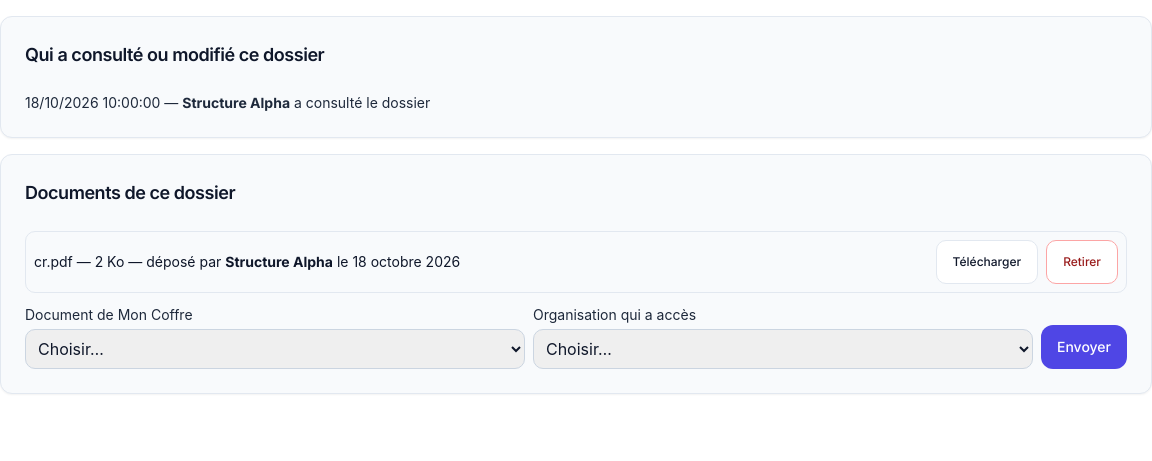
Test: dossier transparency › a revoked organisation is not offered for sharing; the Coffre document goes to the chosen active one
Select "bail.pdf (Logement)" in the dropdown with test id "share-coffre-doc" at (275, 349), box x1=25 y1=329 x2=525 y2=369
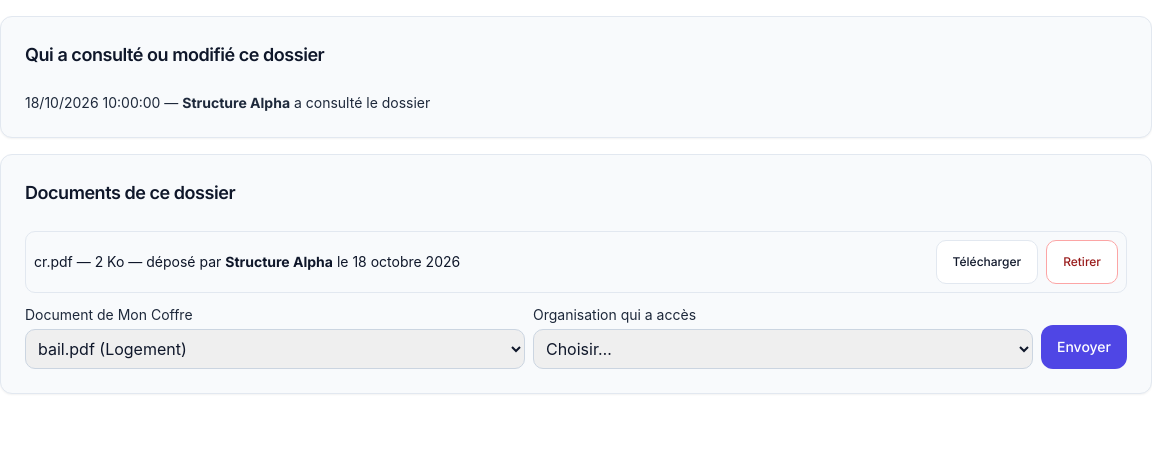
Select "Structure Alpha" in the dropdown with test id "share-coffre-org" at (783, 349), box x1=533 y1=329 x2=1033 y2=369
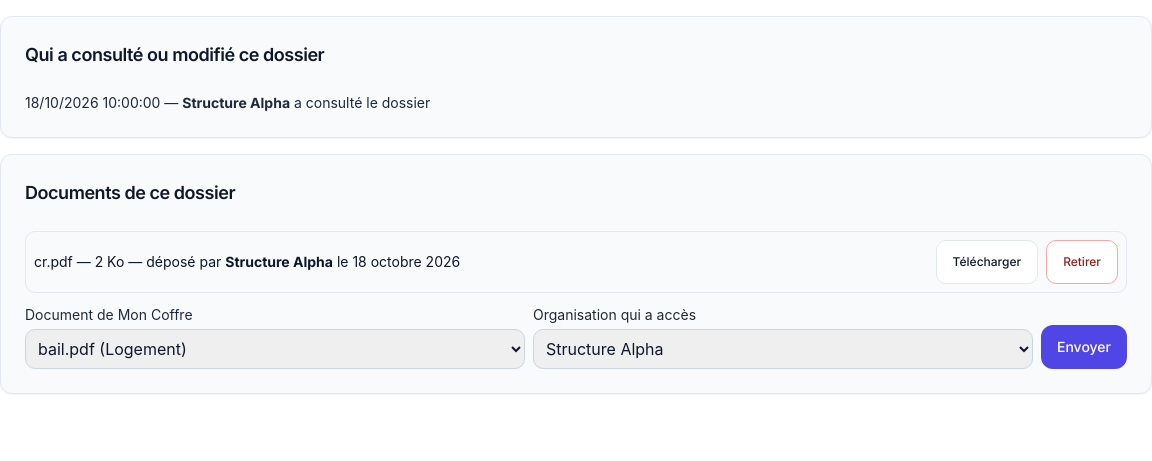
Click the button with test id "share-coffre-send" at (1084, 347), box x1=1041 y1=325 x2=1127 y2=369
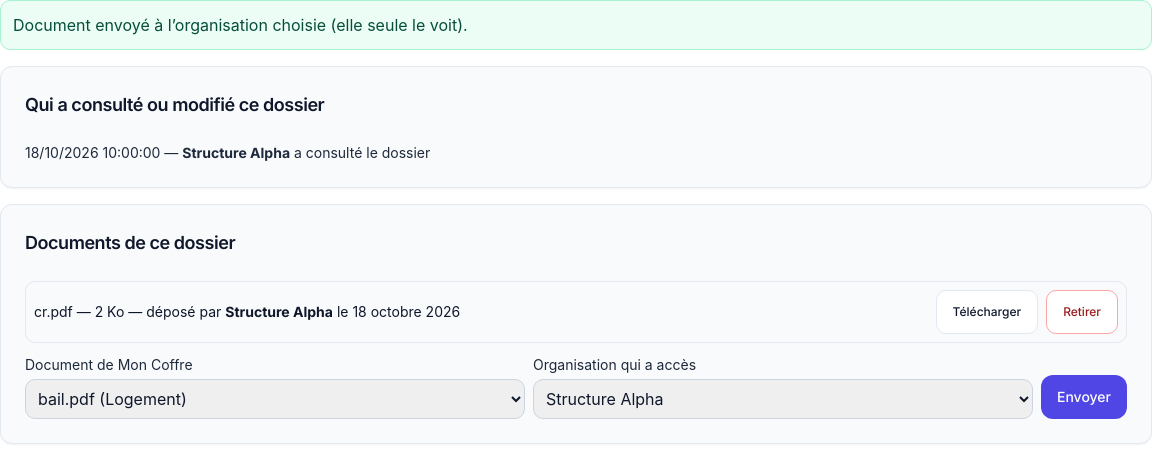
Check: the message with test id "transparency-status" shows "elle seule le voit", box x1=13 y1=15 x2=468 y2=35
